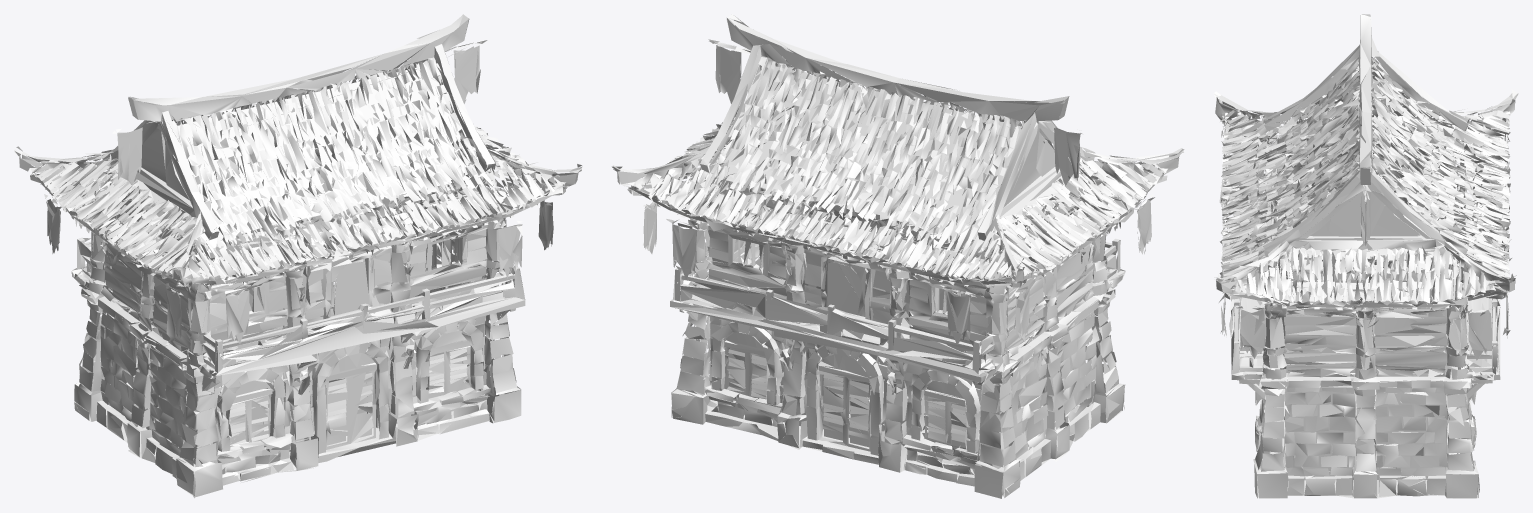
The model's file is house_stone_c_lod1.glb.
3 views of the same model, side by side, from view 1: azimuth 30°, elevation 25°; view 2: azimuth 150°, elevation 25°; view 3: azimuth 270°, elevation 25° (orthographic). The views are drawn at different scales.
Parts seen in each view (by area): view 1: house_stone_c; view 2: house_stone_c; view 3: house_stone_c.
Boxes of the visible parts, x1=… form: house_stone_c: x1=14, y1=14, x2=582, y2=497; house_stone_c: x1=612, y1=14, x2=1184, y2=498; house_stone_c: x1=1213, y1=14, x2=1518, y2=498.
Size of the model in its own units: 9.65 by 8.04 by 6.64.
1 material, 1 textured.
